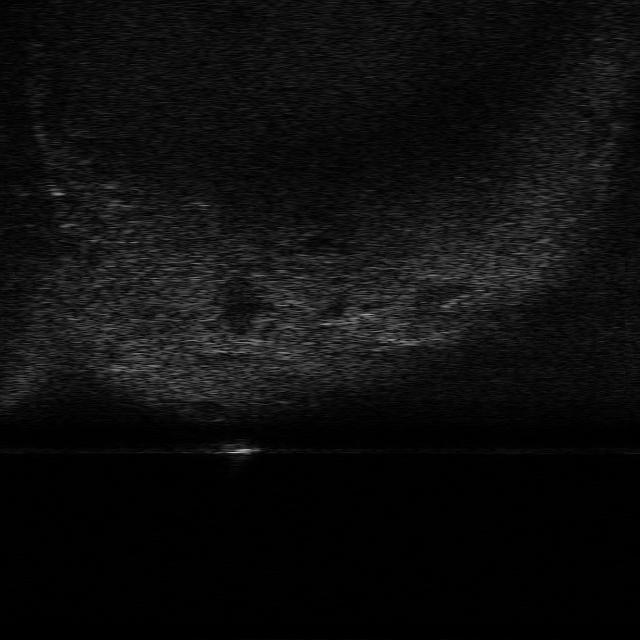cube: (206, 433, 262, 462)
